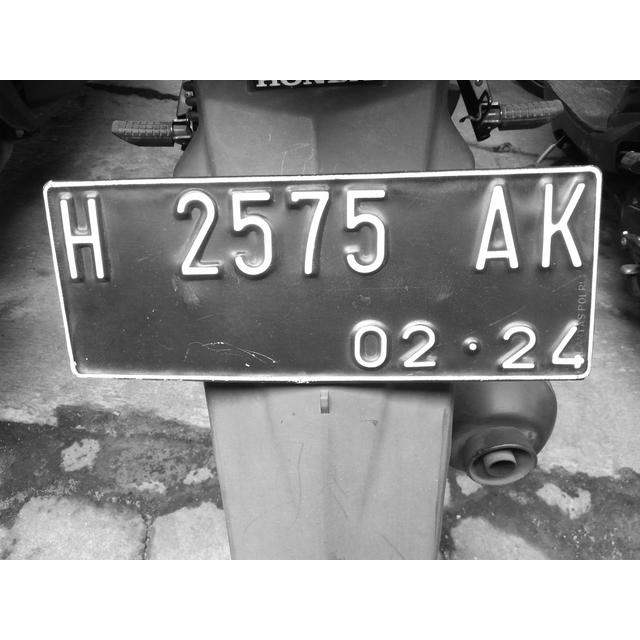license: (52, 173, 592, 376)
